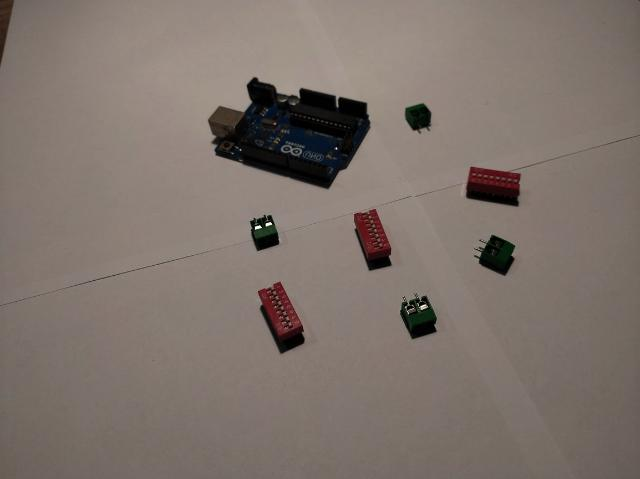arduino: (208, 77, 370, 187)
dip_switch: (258, 281, 304, 345), (354, 210, 392, 263), (466, 166, 520, 200)
terminal_block: (474, 234, 514, 272), (400, 292, 436, 334), (250, 214, 278, 248), (405, 103, 431, 133)
